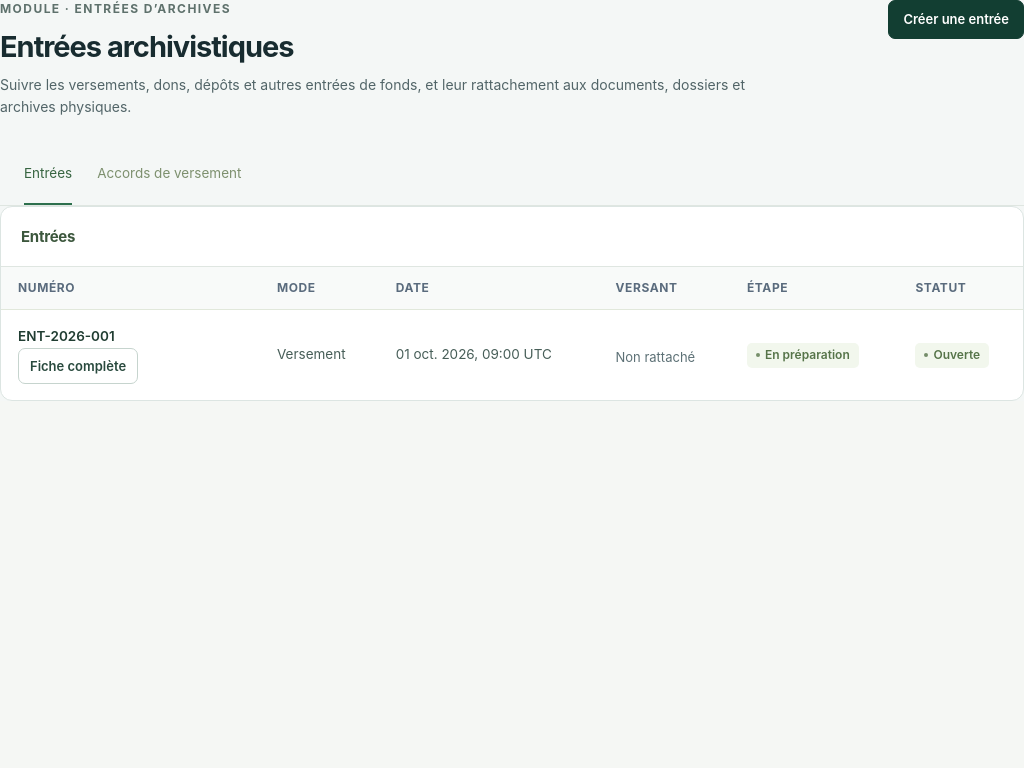
Test: la fiche d’un versement en préparation montre les parties par leur nom, l’étape et la volumétrie
This screenshot has width=1024, height=768.
Step 1. Click the button "ENT-2026-001" → click(113, 337), box [18,326,208,348]
(page scrolled)
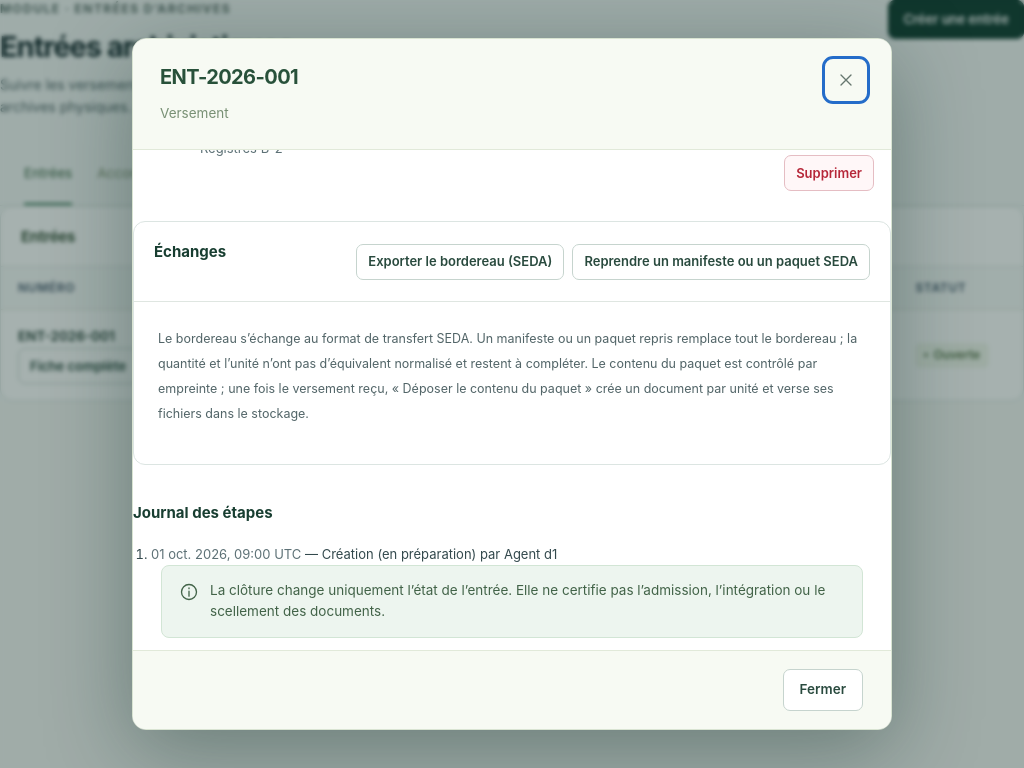
Result: the list item "Création (en préparation)" is shown at [322,546,476,562]
